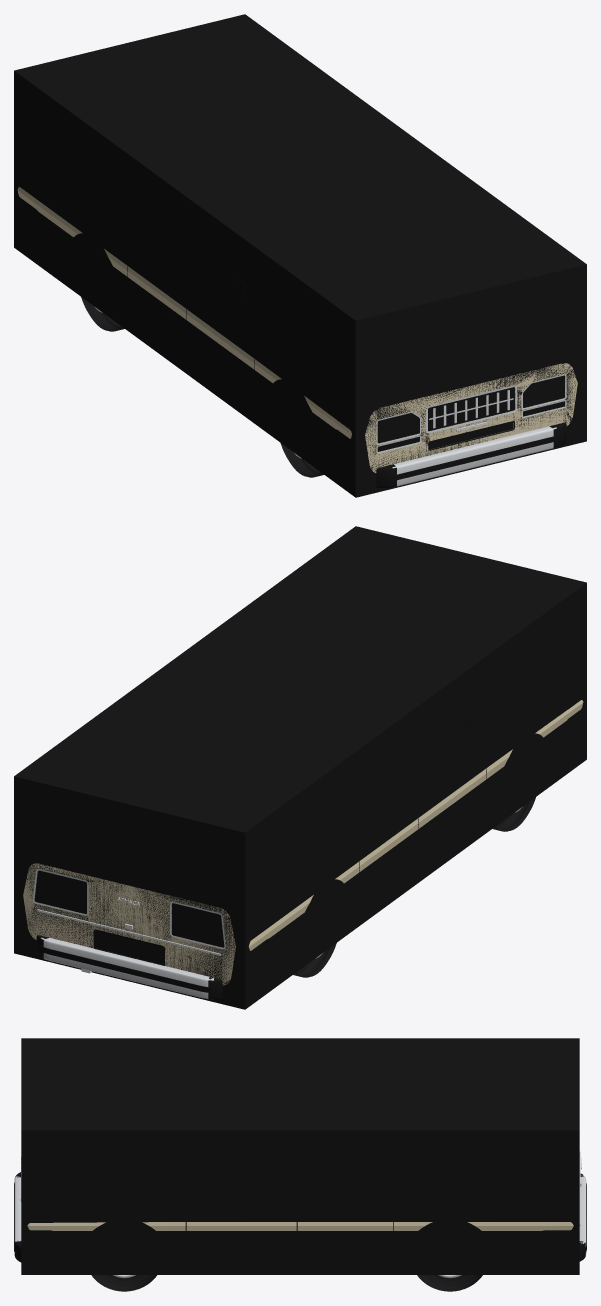
File: atmaca_stock_lod0.glb
3 views of the same model, one above another, from view 1: azimuth 30°, elevation 25°; view 2: azimuth 150°, elevation 25°; view 3: azimuth 270°, elevation 25° (orthographic). The views are drawn at different scales.
Visible parts, largest first — view 1: col_body, body, trim; view 2: col_body, body, trim; view 3: col_body, body, trim, wheel_RL, wheel_FL.
Boxes of the visible parts, <box> form: col_body: <box>14,14,586,497</box>; body: <box>17,187,577,472</box>; trim: <box>238,279,566,487</box>; col_body: <box>14,526,586,1009</box>; body: <box>23,700,583,985</box>; trim: <box>33,708,476,999</box>; col_body: <box>21,1038,579,1274</box>; body: <box>27,1222,573,1230</box>; trim: <box>14,1151,586,1262</box>; wheel_RL: <box>417,1275,482,1291</box>; wheel_FL: <box>91,1275,156,1291</box>.
Size of the model in its own units: 1.65 by 1.37 by 4.31.
